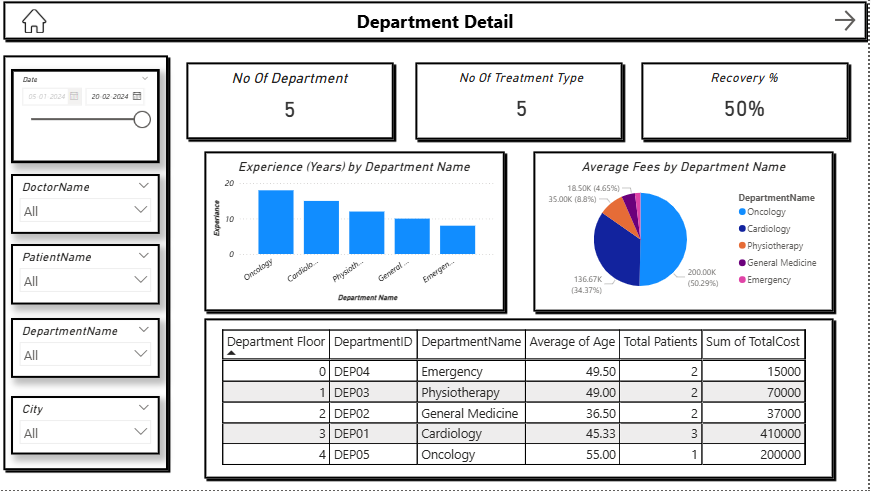

What the dashboard file says about the page in this screenshot:
{"tool":"powerbi","page":{"name":"Department Details","canvas":[1291,731],"ordinal":1},"visuals":[{"type":"shape","box":[0,0,1292.6,66.9],"z":0},{"type":"image","box":[0,11.9,101,44.6],"z":1000},{"type":"shape","box":[0,80.5,254.6,626.3],"z":2000},{"type":"slicer","fields":{"Values":["PatientVisit.AdmissionDate"]},"box":[16.5,105.1,220.7,139.6],"z":3000},{"type":"slicer","fields":{"Values":["PatientVisit.DoctorName"]},"box":[16.5,261.2,220.7,88.6],"z":4000},{"type":"slicer","fields":{"Values":["PatientVisit.PatientName"]},"box":[16.5,364.8,220.7,90.1],"z":5000},{"type":"slicer","fields":{"Values":["PatientVisit.DepartmentName"]},"box":[16.5,475.9,220.7,88.6],"z":6000},{"type":"slicer","fields":{"Values":["PatientVisit.City"]},"box":[16.5,591.5,220.7,87.1],"z":7000},{"type":"shape","box":[272.3,90.3,318.1,124.3],"z":8000},{"type":"advanceCardE03760C5AB684758B56AA29F9E6C257B","title":"No Of Department","fields":{"mainMeasure":["Count(PatientVisit.DepartmentID)"]},"box":[298.6,107,263,92.1],"z":9000},{"type":"shape","box":[298.7,222.2,456.4,247.7],"z":10000},{"type":"columnChart","title":"Experience (Years) by Department Name","fields":{"Y":["Avg(PatientVisit.Experience (Years))"],"Category":["PatientVisit.DepartmentName"]},"box":[312.2,238.7,427.8,216.2],"z":11000},{"type":"shape","box":[612.1,90.6,318,124.8],"z":12000},{"type":"shape","box":[947.9,90.6,318,124.8],"z":13000},{"type":"advanceCardE03760C5AB684758B56AA29F9E6C257B","title":"No Of Treatment Type","fields":{"mainMeasure":["Count(PatientVisit.TreatmentType)"]},"box":[644.8,107,258.5,92.1],"z":14000},{"type":"advanceCardE03760C5AB684758B56AA29F9E6C257B","title":"Recovery %","fields":{"mainMeasure":["PatientVisit.Recovery %"]},"box":[967.2,107,276.4,92.1],"z":15000},{"type":"shape","box":[787.5,222.9,456.1,248.1],"z":16000},{"type":"pieChart","title":"Average Fees by Department Name","fields":{"Category":["PatientVisit.DepartmentName"],"Y":["Avg(PatientVisit.TotalCost)"]},"box":[800.8,239.2,429.4,216.9],"z":17000},{"type":"shape","box":[298.6,471,945,248.1],"z":18000},{"type":"tableEx","fields":{"Values":["PatientVisit.Department Floor","PatientVisit.DepartmentID","PatientVisit.DepartmentName","Avg(PatientVisit.Age)","PatientVisit.Total Patients","Sum(PatientVisit.TotalCost)"]},"box":[323.9,487.3,900.4,219.9],"z":19000},{"type":"actionButton","box":[1234,13.5,57,40.5],"z":22000}]}

Visuals, with their boxes in screenshot pixels (x1, y1, x2, y2), scaled from the page's 1291x731 canvas onto the 871x491 screenshot:
shape: {"x1": 0, "y1": 0, "x2": 870, "y2": 45}
image: {"x1": 0, "y1": 8, "x2": 68, "y2": 38}
shape: {"x1": 0, "y1": 54, "x2": 172, "y2": 475}
slicer - PatientVisit.AdmissionDate: {"x1": 11, "y1": 71, "x2": 160, "y2": 164}
slicer - PatientVisit.DoctorName: {"x1": 11, "y1": 175, "x2": 160, "y2": 235}
slicer - PatientVisit.PatientName: {"x1": 11, "y1": 245, "x2": 160, "y2": 306}
slicer - PatientVisit.DepartmentName: {"x1": 11, "y1": 320, "x2": 160, "y2": 379}
slicer - PatientVisit.City: {"x1": 11, "y1": 397, "x2": 160, "y2": 456}
shape: {"x1": 184, "y1": 61, "x2": 398, "y2": 144}
"No Of Department" advanceCardE03760C5AB684758B56AA29F9E6C257B: {"x1": 201, "y1": 72, "x2": 379, "y2": 134}
shape: {"x1": 202, "y1": 149, "x2": 509, "y2": 316}
"Experience (Years) by Department Name" columnChart: {"x1": 211, "y1": 160, "x2": 499, "y2": 306}
shape: {"x1": 413, "y1": 61, "x2": 628, "y2": 145}
shape: {"x1": 640, "y1": 61, "x2": 854, "y2": 145}
"No Of Treatment Type" advanceCardE03760C5AB684758B56AA29F9E6C257B: {"x1": 435, "y1": 72, "x2": 609, "y2": 134}
"Recovery %" advanceCardE03760C5AB684758B56AA29F9E6C257B: {"x1": 653, "y1": 72, "x2": 839, "y2": 134}
shape: {"x1": 531, "y1": 150, "x2": 839, "y2": 316}
"Average Fees by Department Name" pieChart: {"x1": 540, "y1": 161, "x2": 830, "y2": 306}
shape: {"x1": 201, "y1": 316, "x2": 839, "y2": 483}
tableEx - PatientVisit.Department Floor x PatientVisit.DepartmentID: {"x1": 219, "y1": 327, "x2": 826, "y2": 475}
actionButton: {"x1": 833, "y1": 9, "x2": 870, "y2": 36}
